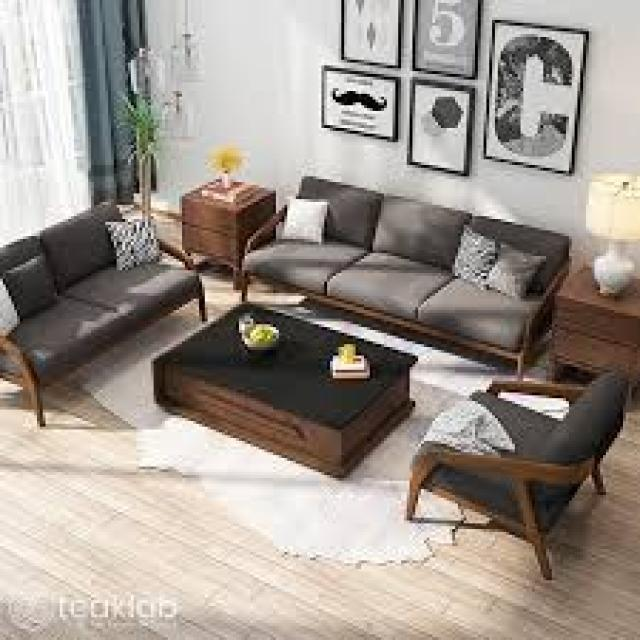sofa: (236, 175, 569, 382), (406, 334, 638, 579), (0, 196, 205, 427)
